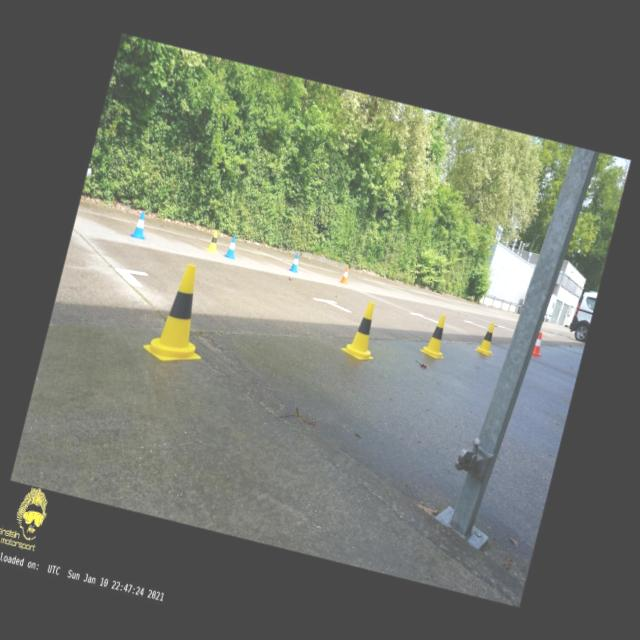blue_cone: (130, 210, 150, 240), (223, 235, 240, 259), (288, 252, 302, 272)
orange_cone: (531, 332, 545, 358), (338, 266, 351, 284)
yellow_cone: (140, 257, 222, 369), (339, 296, 386, 362), (418, 311, 453, 360), (474, 321, 500, 356), (206, 229, 222, 253)
